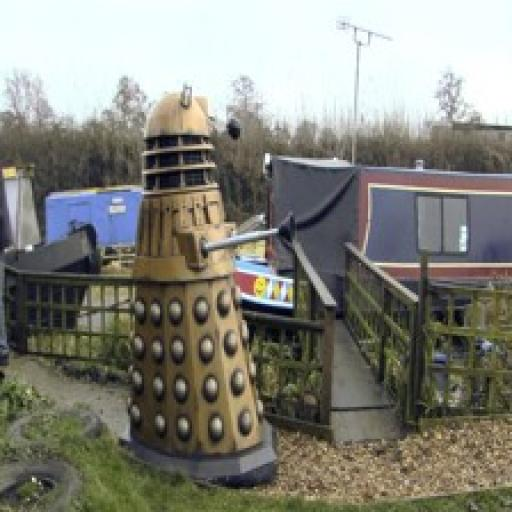dalek: (116, 84, 303, 491)
